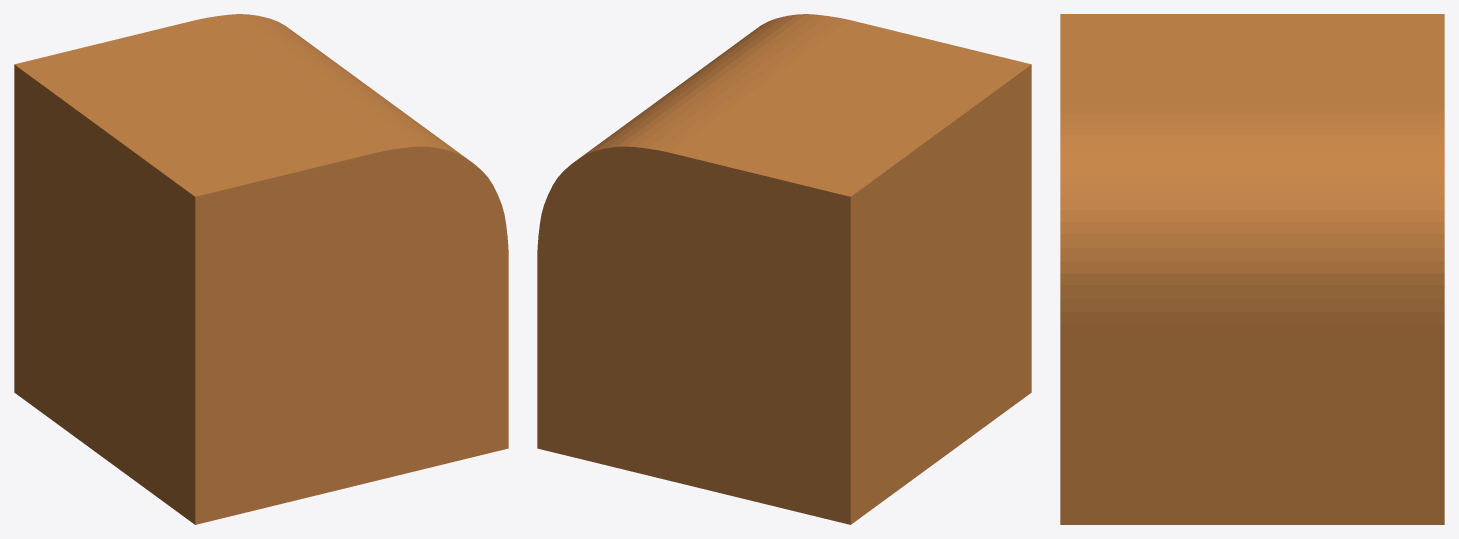
3 views of the same model, side by side, from view 1: azimuth 30°, elevation 25°; view 2: azimuth 150°, elevation 25°; view 3: azimuth 270°, elevation 25° (orthographic). The views are drawn at different scales.
Visible parts, largest first — view 1: Cube; view 2: Cube; view 3: Cube.
Boxes of the visible parts, <box> form: Cube: <box>14,14,508,524</box>; Cube: <box>537,14,1031,524</box>; Cube: <box>1060,14,1444,524</box>.
Size of the model in its own units: 100 by 100 by 100.
